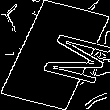M_W: (12, 25, 98, 85)
